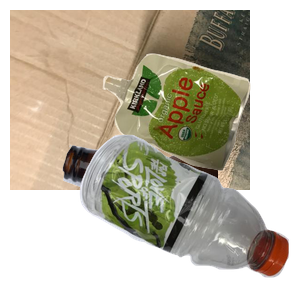cardboard: (10, 10, 250, 190)
glass: (60, 142, 300, 300)
plastic: (77, 132, 300, 300)
trash: (100, 51, 300, 214)
